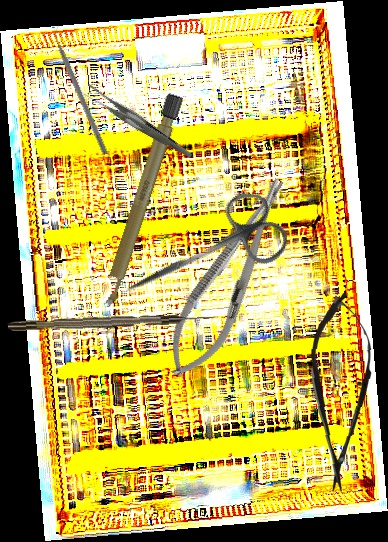Chopper: (49, 23, 115, 156)
Dressing Forceps: (80, 61, 193, 185)
Hook Surgical: (7, 312, 216, 332)
Iris Scissors: (109, 182, 295, 328)
Micro Scissor: (306, 291, 375, 494)
Needle Holder: (152, 167, 306, 389)
Scalpel Handle: (97, 92, 184, 312)
